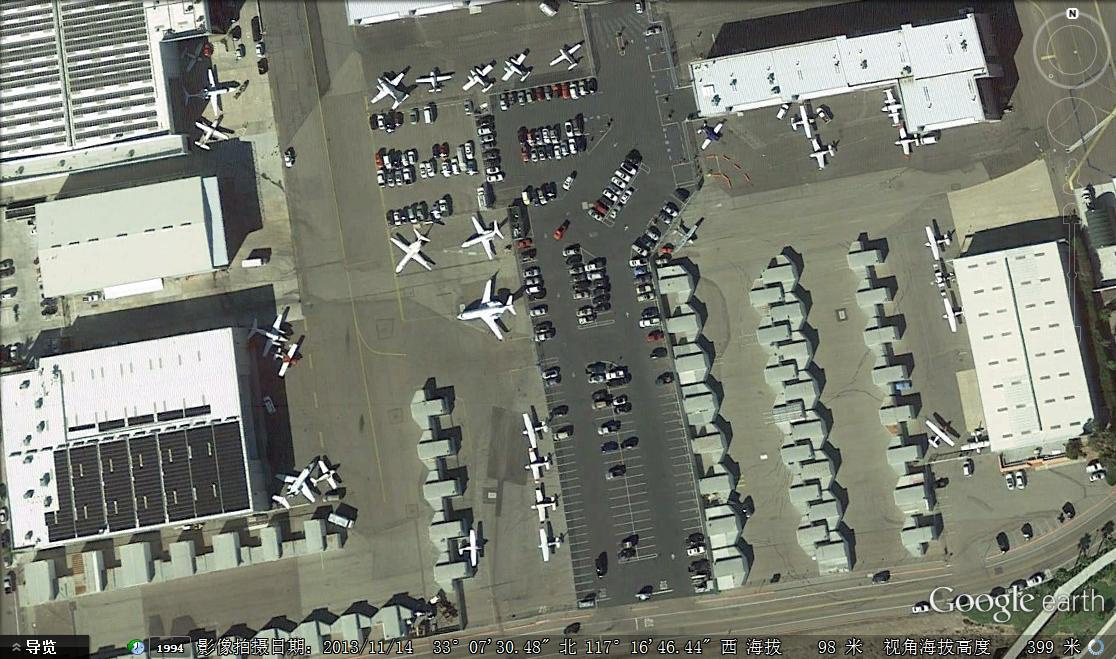aircraft: (453, 276, 522, 342), (269, 460, 321, 511), (387, 227, 436, 281), (181, 69, 236, 117), (458, 212, 507, 262), (246, 312, 292, 361), (368, 70, 412, 116), (191, 116, 229, 157), (918, 223, 956, 263), (456, 527, 487, 572), (268, 341, 303, 380), (546, 41, 587, 74), (411, 65, 454, 96), (922, 414, 957, 452), (522, 442, 554, 483), (517, 412, 549, 453), (879, 86, 907, 132), (937, 295, 969, 335), (461, 59, 499, 92), (309, 458, 340, 496), (499, 53, 534, 86), (530, 485, 559, 524), (696, 119, 727, 154), (789, 104, 819, 140), (891, 125, 921, 161), (960, 427, 994, 457), (927, 267, 959, 298), (177, 40, 207, 73), (535, 527, 562, 563), (806, 137, 834, 170)
